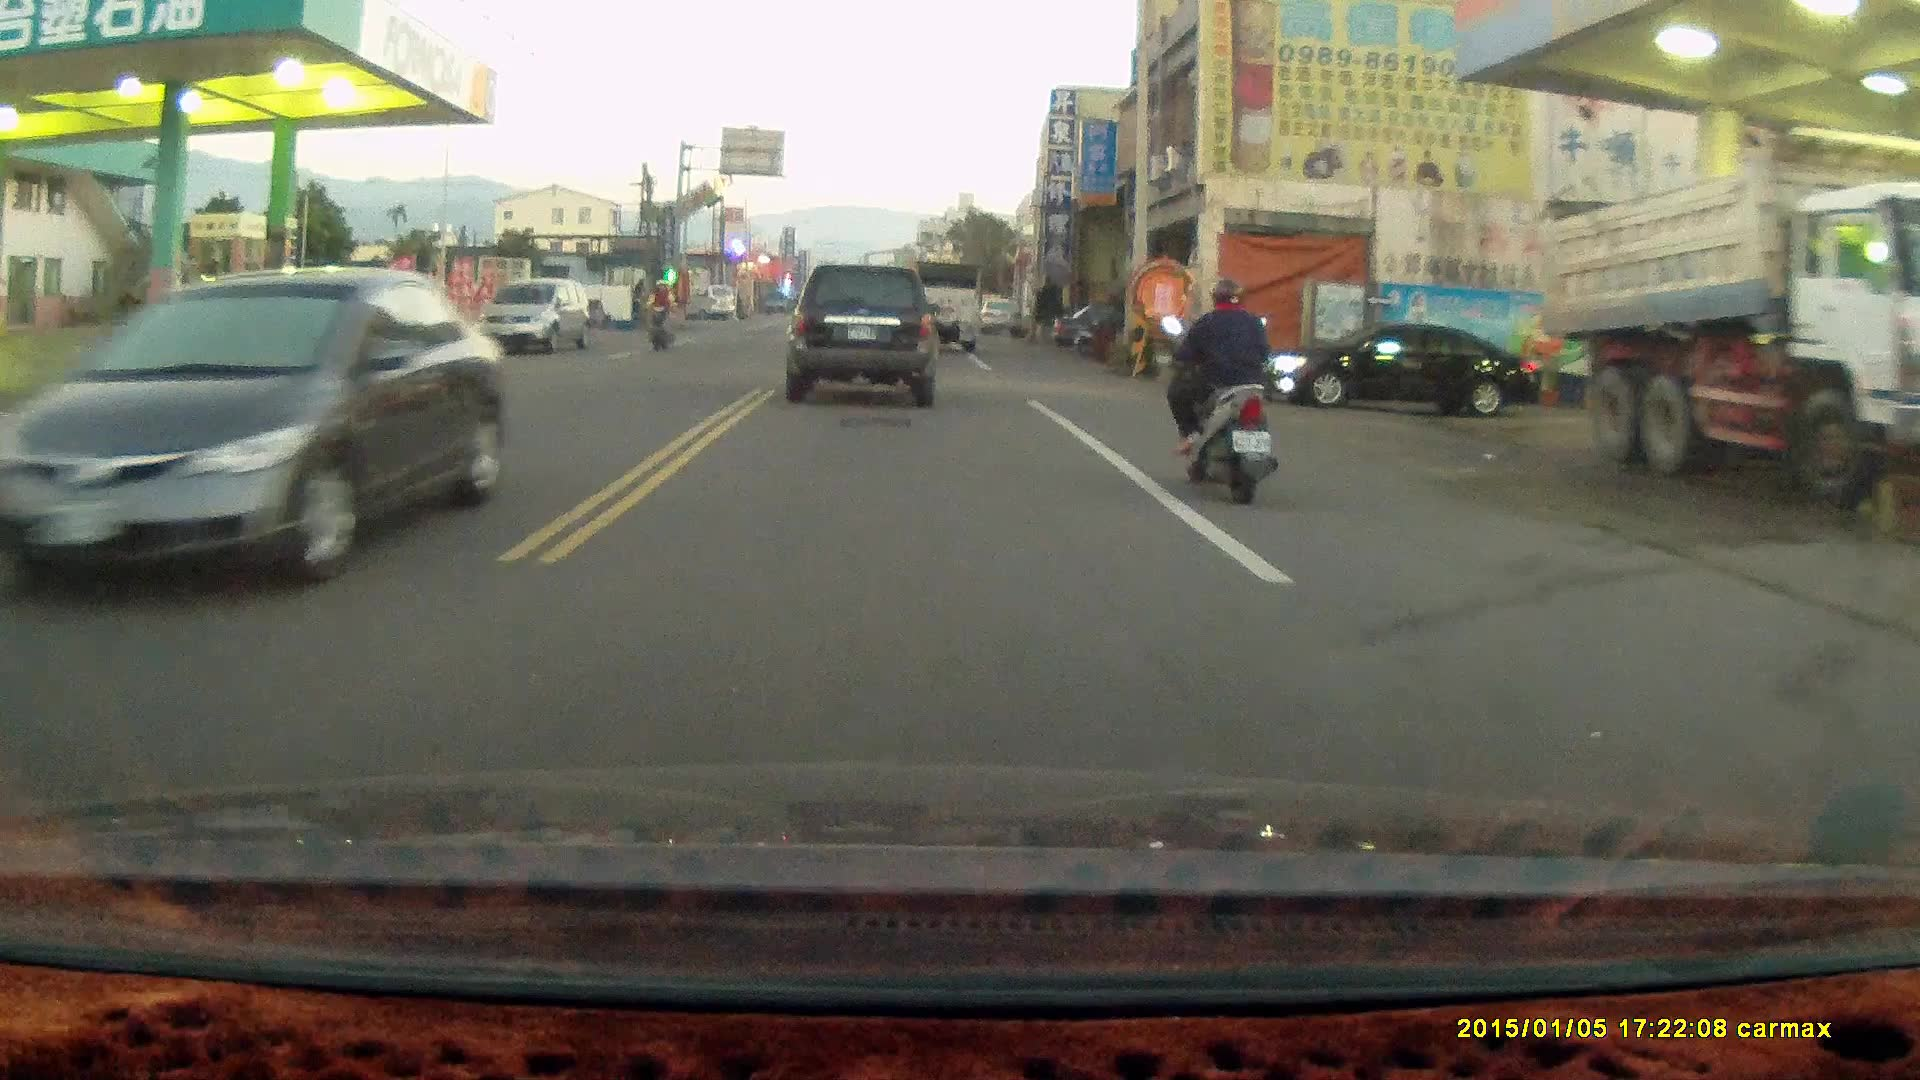rider: (1158, 275, 1277, 506), (639, 277, 673, 354)
vehicle: (1, 266, 514, 590), (1540, 127, 1920, 489), (1276, 324, 1547, 418), (789, 263, 940, 410), (474, 275, 591, 361), (908, 260, 983, 351)
